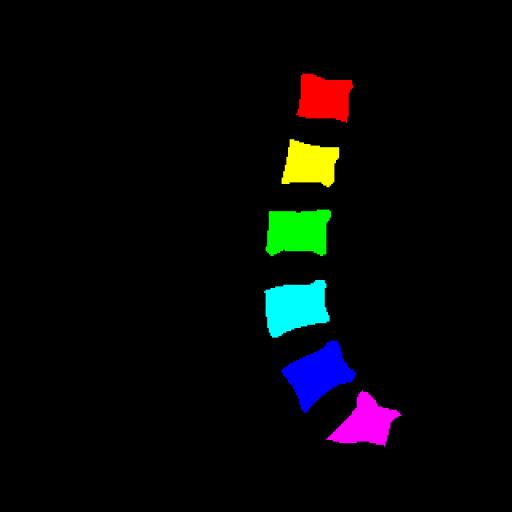L1: (297, 74, 353, 122)
L2: (282, 139, 339, 187)
L3: (266, 210, 331, 256)
L4: (265, 280, 329, 338)
L5: (282, 341, 356, 412)
S1: (327, 391, 401, 446)
